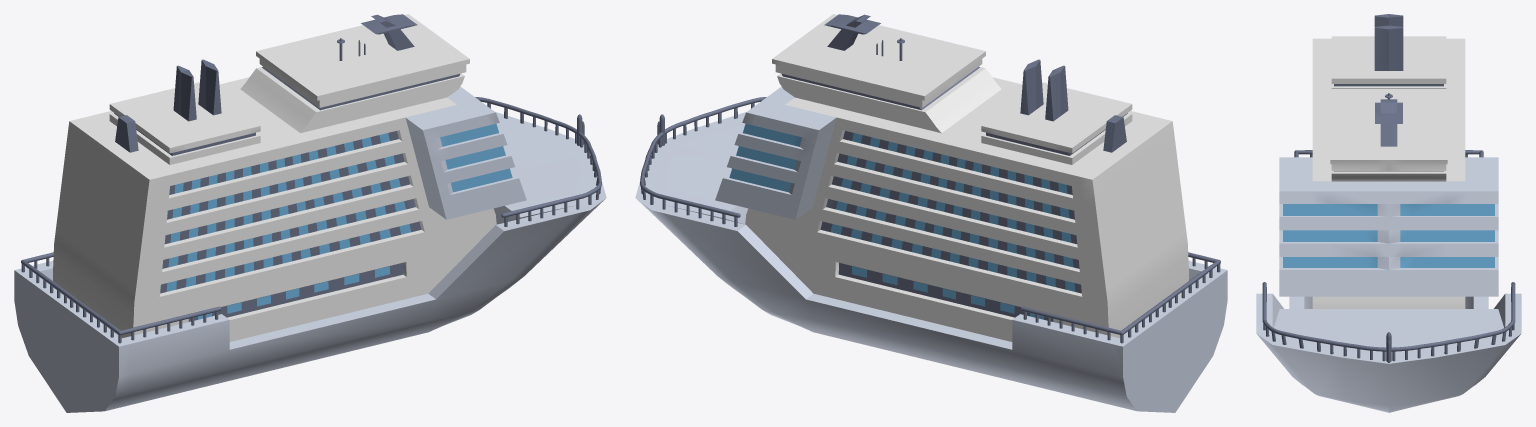
Rendered from Ship.fbx.
The picture shows the model from 3 angles, left to right: view 1: azimuth 30°, elevation 25°; view 2: azimuth 150°, elevation 25°; view 3: azimuth 270°, elevation 25°; orthographic projection. The views are drawn at different scales.
Visible parts, largest first — view 1: Cube.001; view 2: Cube.001; view 3: Cube.001.
Boxes of the visible parts, bbox=[...] form: Cube.001: bbox=[14, 14, 606, 412]; Cube.001: bbox=[635, 14, 1227, 412]; Cube.001: bbox=[1256, 14, 1521, 412].
Size of the model in its own units: 2168 by 1269 by 1008.
